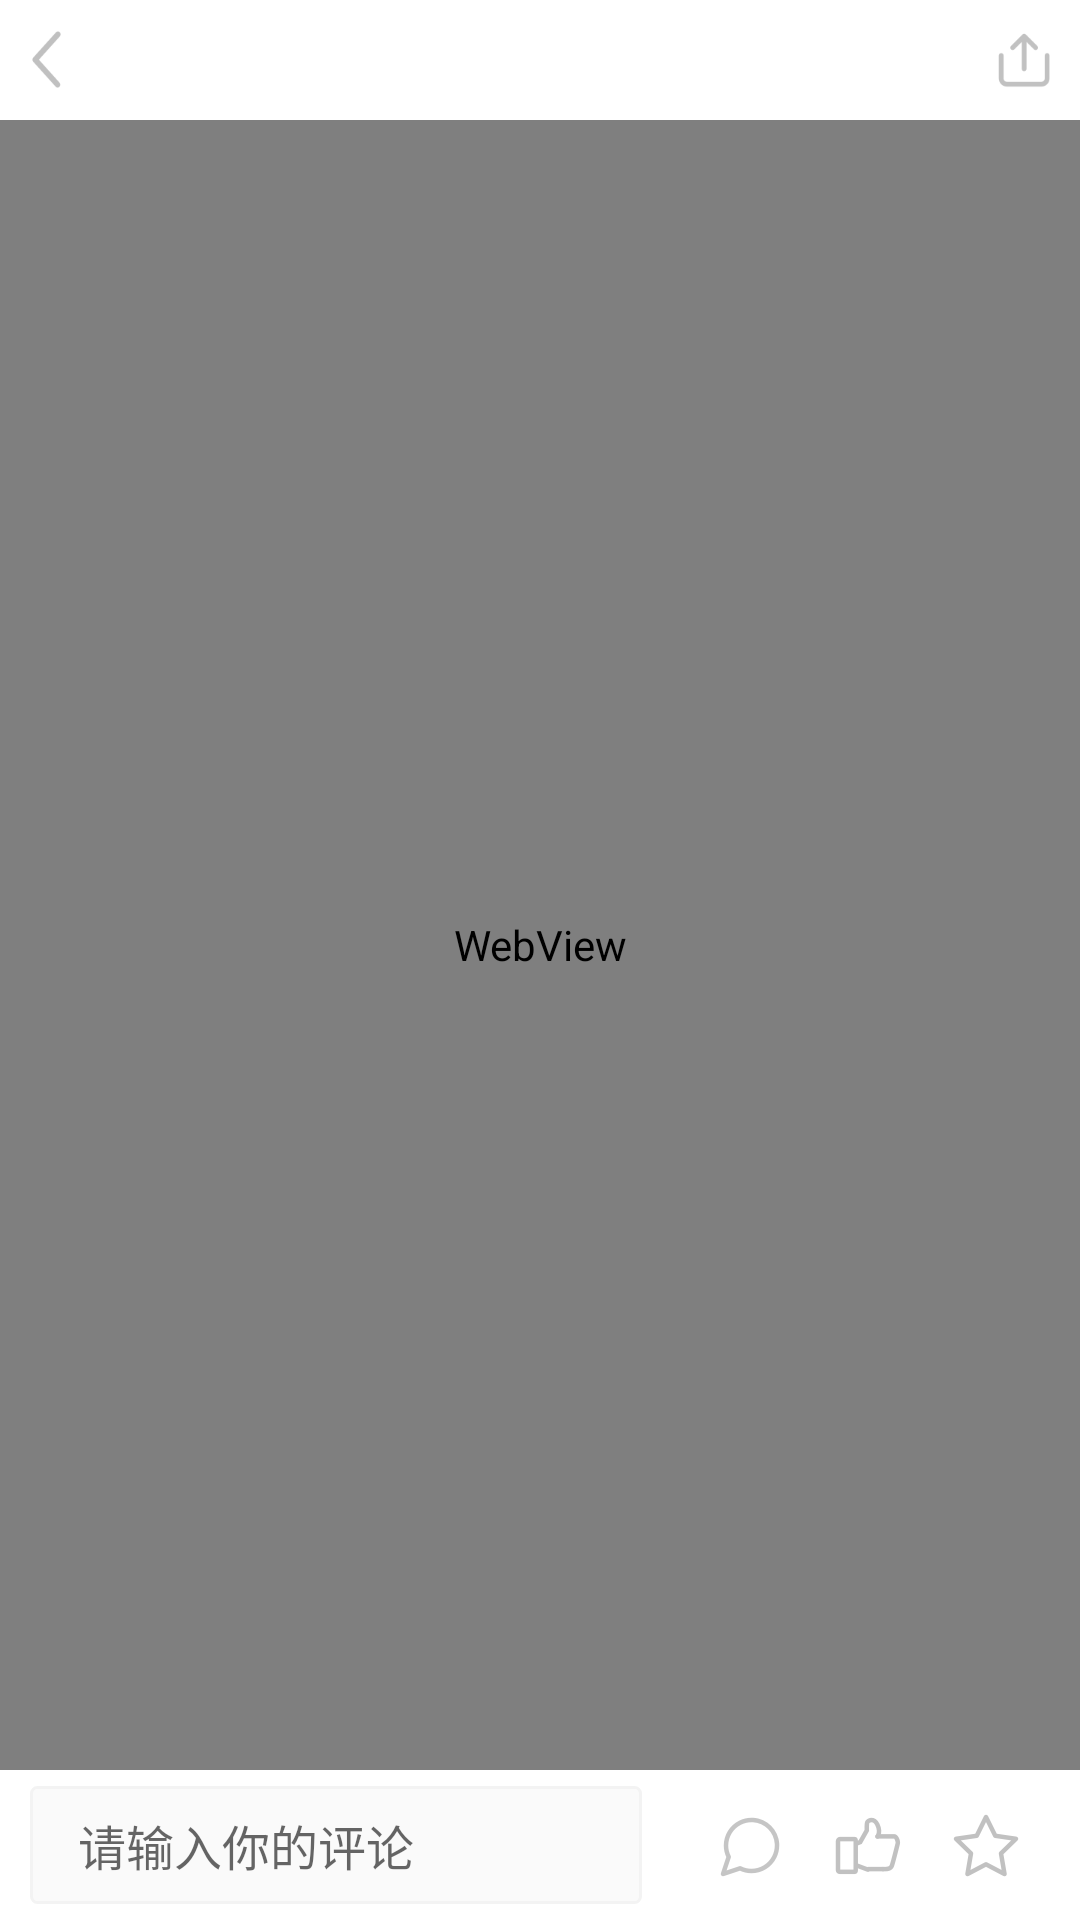

Where to tap for icons on this 1080 x 1920 app screen, as [x,y]:
arrow: [46,59]
collection: [986,1845]
pinglun: [750,1847]
share: [1024,60]
zan: [868,1846]
